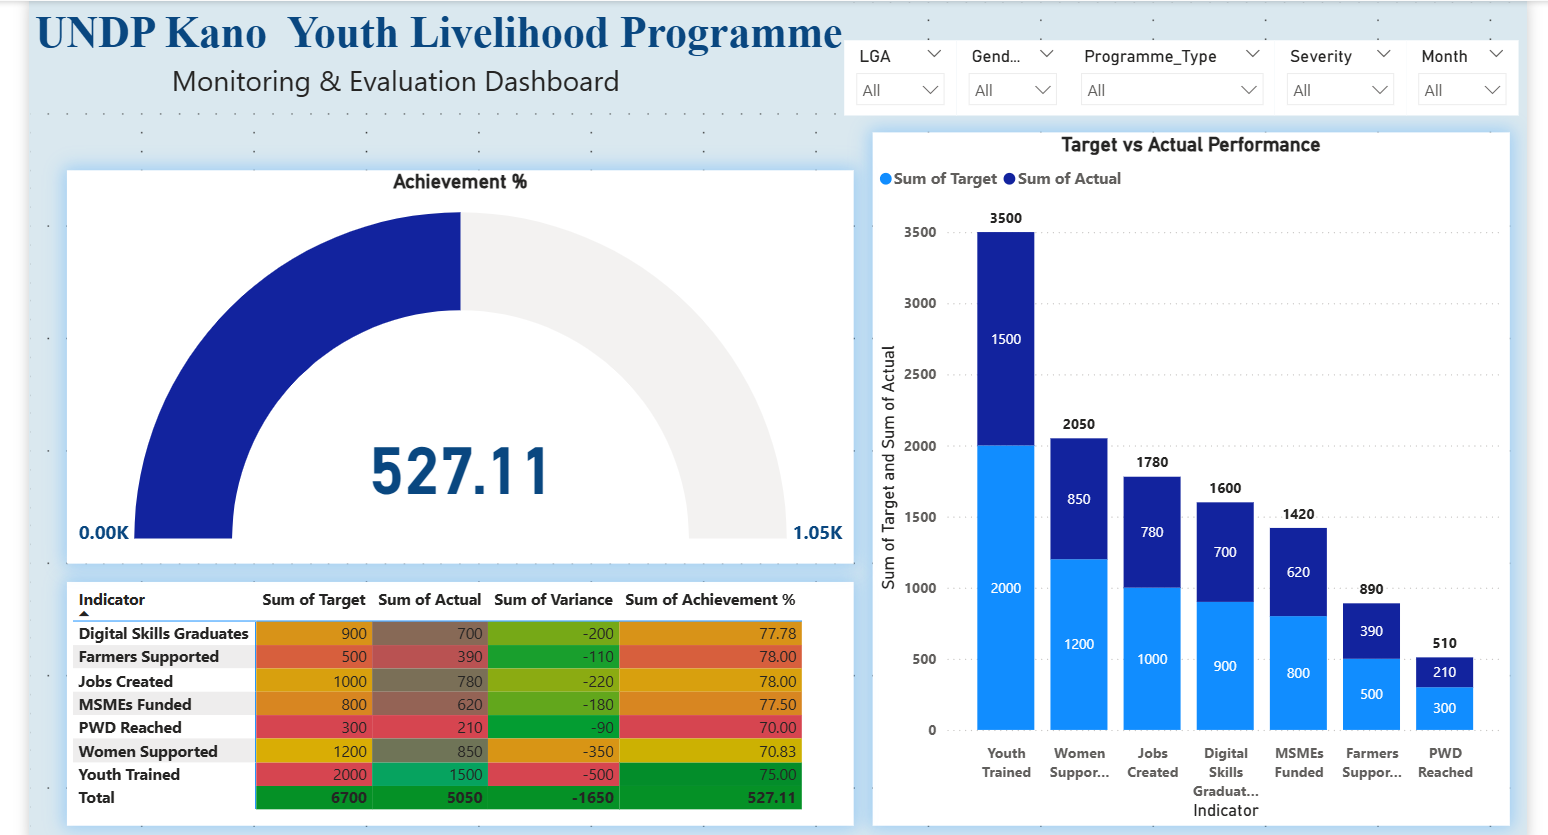

What the dashboard file says about the page in this screenshot:
{"tool":"powerbi","page":{"name":"Programme Performance","canvas":[1280,720],"ordinal":1},"visuals":[{"type":"columnChart","title":"Target vs Actual Performance","fields":{"Category":["KPI_Tracker.Indicator"],"Y":["Sum(KPI_Tracker.Target)","Sum(KPI_Tracker.Actual)"]},"box":[720,112,544,592],"z":0},{"type":"pivotTable","fields":{"Rows":["KPI_Tracker.Indicator"],"Values":["Sum(KPI_Tracker.Target)","Sum(KPI_Tracker.Actual)","Sum(KPI_Tracker.Variance)","Sum(KPI_Tracker.Achievement %)"]},"box":[32,496,672,208],"z":1000},{"type":"gauge","title":"Achievement %","fields":{"Y":["Sum(KPI_Tracker.Achievement %)"]},"box":[32,144,672,336],"z":2000},{"type":"textbox","box":[0,0,704,96],"z":3000},{"type":"slicer","fields":{"Values":["Beneficiaries.Gender"]},"box":[791.8,33.1,96,64],"z":4000},{"type":"slicer","fields":{"Values":["Beneficiaries.Programme_Type"]},"box":[887.8,33.1,176,64],"z":6000},{"type":"slicer","fields":{"Values":["Risk_Register.Column3"]},"box":[1063.8,33.1,112,64],"z":7000},{"type":"slicer","fields":{"Values":["Beneficiaries.Month"]},"box":[1175.8,33.1,96,64],"z":8000},{"type":"slicer","fields":{"Values":["Beneficiaries.LGA"]},"box":[695.8,33.1,96,64],"z":12500}]}

Visuals, with their boxes on the page's 1280x720 design canvas (x1, y1, x2, y2). These are canvas units, not pixel positions in the 1548x835 screenshot, which may show the page scaled, cropped or inside an application window:
"Target vs Actual Performance" columnChart: x1=720 y1=112 x2=1264 y2=704
pivotTable - KPI_Tracker.Indicator x Sum(KPI_Tracker.Target): x1=32 y1=496 x2=704 y2=704
"Achievement %" gauge: x1=32 y1=144 x2=704 y2=480
textbox: x1=0 y1=0 x2=704 y2=96
slicer - Beneficiaries.Gender: x1=792 y1=33 x2=888 y2=97
slicer - Beneficiaries.Programme_Type: x1=888 y1=33 x2=1064 y2=97
slicer - Risk_Register.Column3: x1=1064 y1=33 x2=1176 y2=97
slicer - Beneficiaries.Month: x1=1176 y1=33 x2=1272 y2=97
slicer - Beneficiaries.LGA: x1=696 y1=33 x2=792 y2=97
